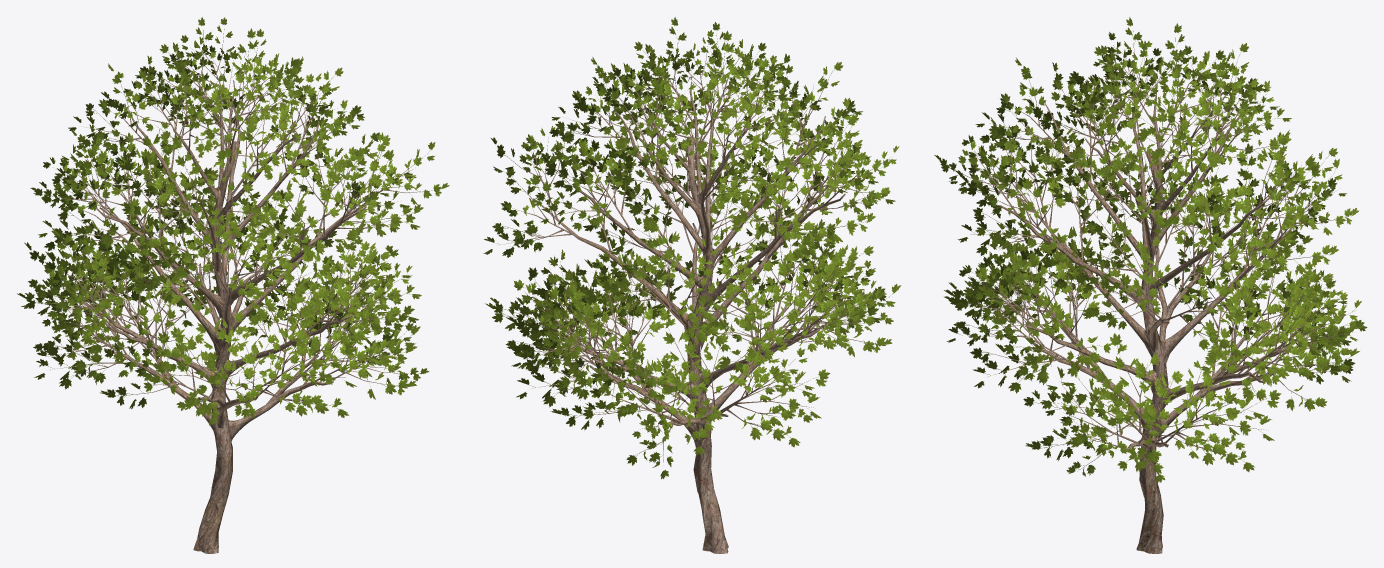
File: erable-1.glb
3 renders of one model, left to right at view 1: azimuth 30°, elevation 25°; view 2: azimuth 150°, elevation 25°; view 3: azimuth 270°, elevation 25°, orthographic. The views are drawn at different scales.
Parts seen in each view (by area): view 1: Tree_1, Tree_0; view 2: Tree_1, Tree_0; view 3: Tree_1, Tree_0.
Part boxes in pixels (x1,y1,x2,y2): Tree_1: (17,17,449,425); Tree_0: (35,29,431,553); Tree_1: (483,17,901,479); Tree_0: (497,38,889,553); Tree_1: (934,17,1367,483); Tree_0: (943,31,1352,553).
Bounding box in the file's own units: 4.95 × 5.78 × 4.5.
Materials: 2 (2 with a texture image).
